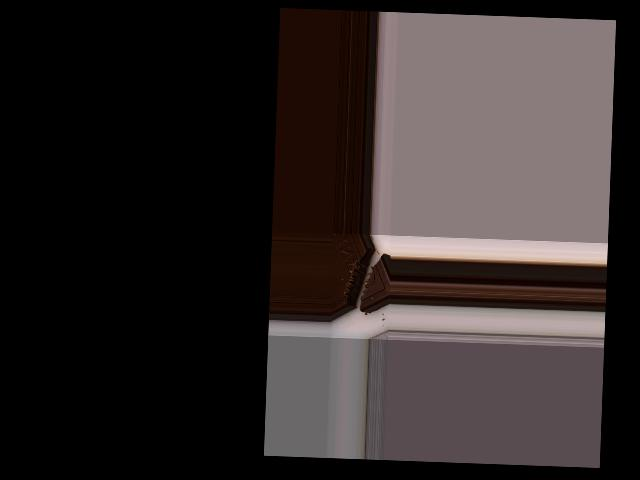chocolate: (331, 233, 392, 325)
